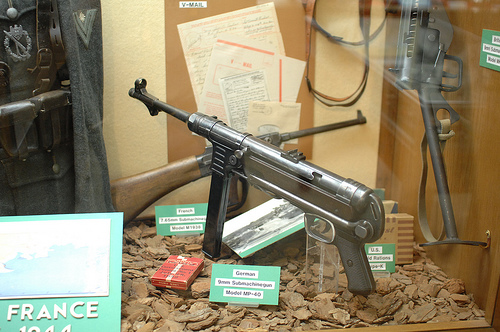rifle: (118, 64, 413, 282)
